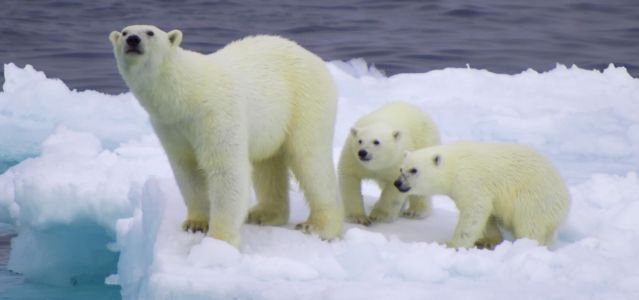bear: (98, 16, 343, 252), (398, 139, 571, 258), (340, 95, 398, 229)
